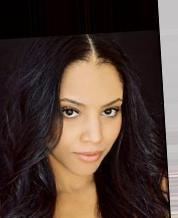face: (60, 103, 118, 165)
